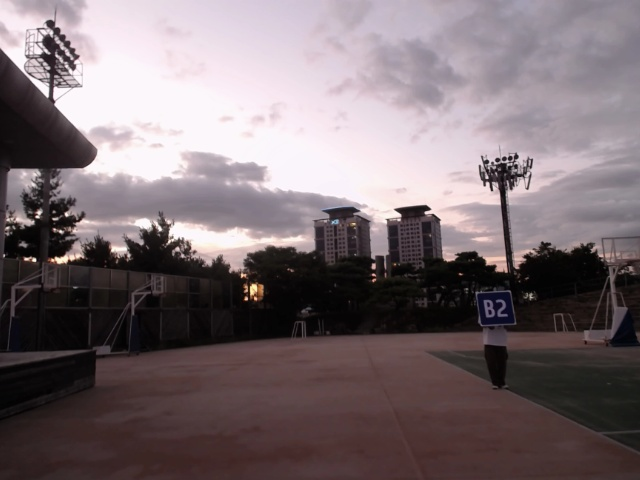delivery_b2: (475, 290, 517, 328)
